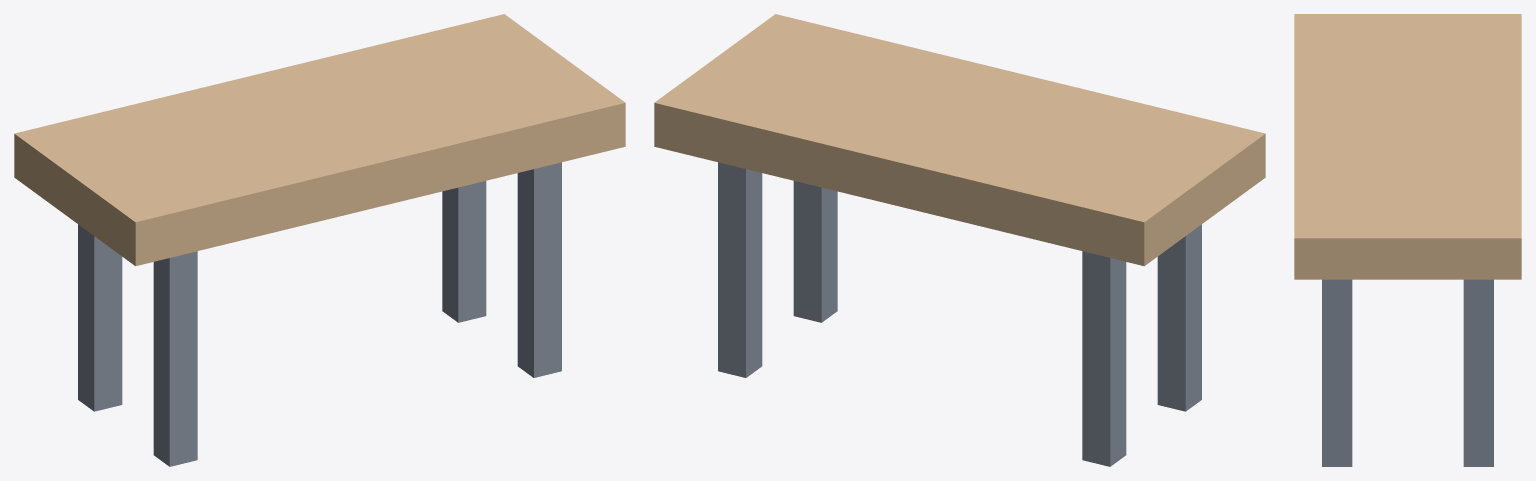
File: desk.glb
3 views of the same model, side by side, from view 1: azimuth 30°, elevation 25°; view 2: azimuth 150°, elevation 25°; view 3: azimuth 270°, elevation 25° (orthographic). The views are drawn at different scales.
Parts seen in each view (by area): view 1: DeskTop, Leg-0.780.28, Leg0.780.28, Leg-0.78-0.28, Leg0.78-0.28; view 2: DeskTop, Leg-0.78-0.28, Leg0.78-0.28, Leg-0.780.28, Leg0.780.28; view 3: DeskTop, Leg0.78-0.28, Leg0.780.28.
Part boxes in pixels (left/top/right/bottom): DeskTop: left=14, top=14, right=625, bottom=266; Leg-0.780.28: left=153, top=251, right=197, bottom=466; Leg0.780.28: left=517, top=162, right=561, bottom=377; Leg-0.78-0.28: left=78, top=224, right=122, bottom=411; Leg0.78-0.28: left=442, top=181, right=486, bottom=322; DeskTop: left=654, top=14, right=1265, bottom=266; Leg-0.78-0.28: left=1082, top=251, right=1126, bottom=466; Leg0.78-0.28: left=718, top=162, right=762, bottom=377; Leg-0.780.28: left=1157, top=224, right=1201, bottom=411; Leg0.780.28: left=793, top=181, right=837, bottom=322; DeskTop: left=1294, top=14, right=1521, bottom=279; Leg0.78-0.28: left=1463, top=279, right=1493, bottom=466; Leg0.780.28: left=1322, top=279, right=1352, bottom=466.
Size of the model in its own units: 2.1 by 1.09 by 0.9.
